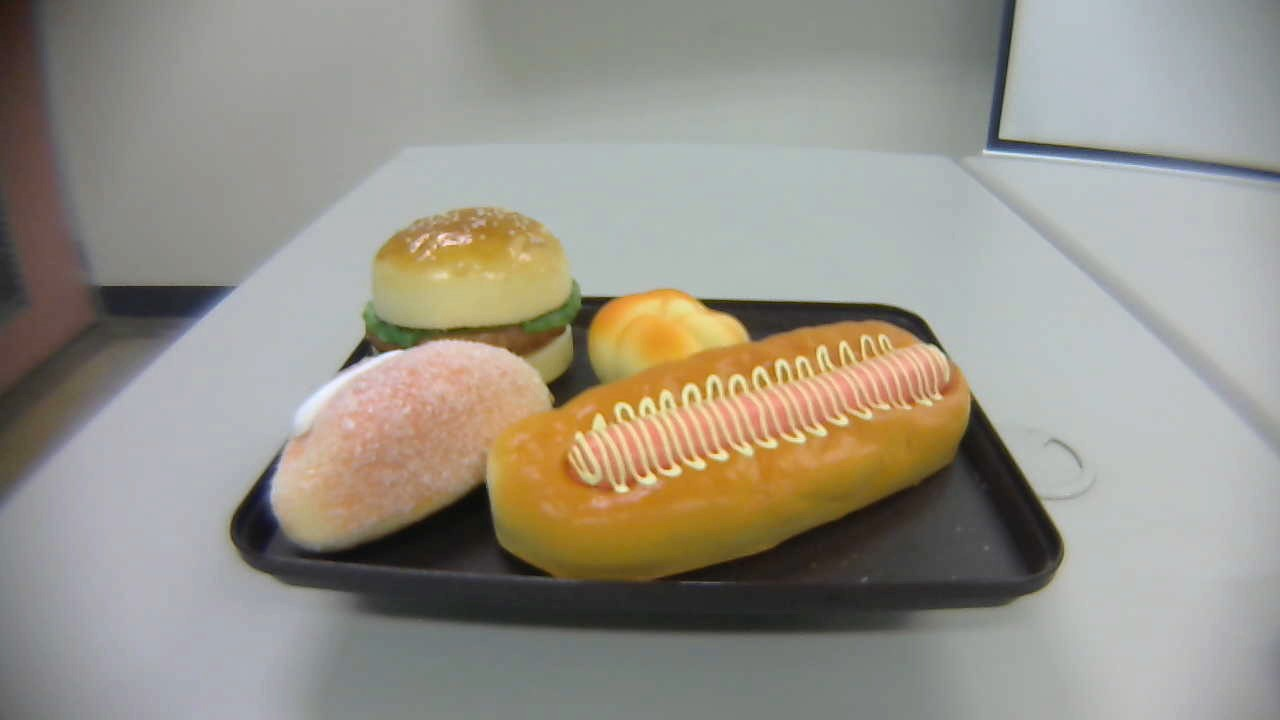coconut: (269, 338, 556, 546)
hamburger: (363, 206, 581, 391)
hot dog: (486, 319, 971, 580)
twist bread: (586, 288, 754, 398)
